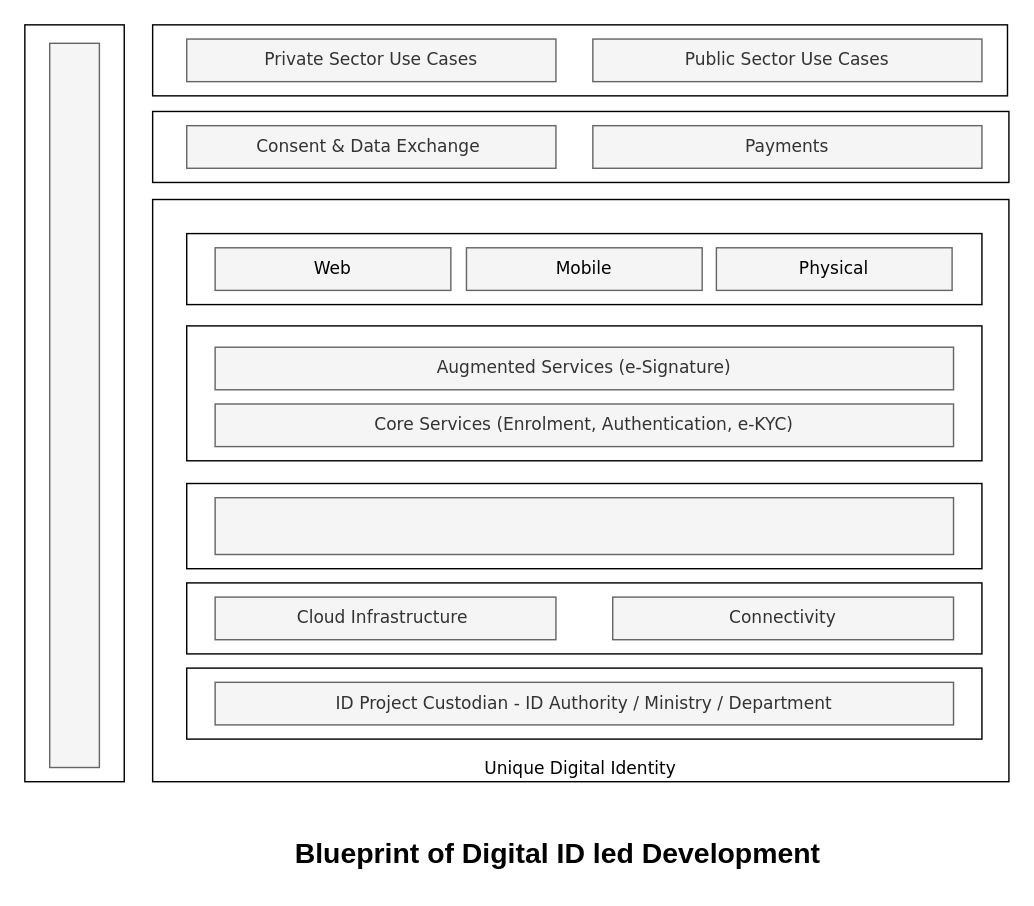
The diagram is 1034 pixels wide and 906 high, and some of its shapes have lost their labels. Each missing label, with the centre of its shape:
Data Protection Act, Cycber Security Act, Electronic Transactions Act: [73,405]
Foundational ID Platform: [584,525]
